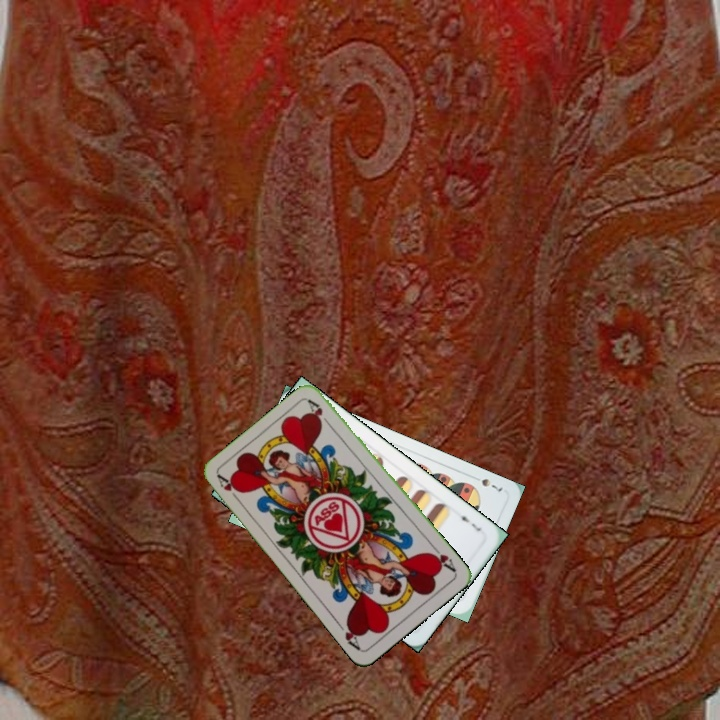E7: (454, 508, 484, 534)
HA: (425, 541, 458, 575), (213, 471, 245, 506)
S7: (468, 472, 506, 494)
